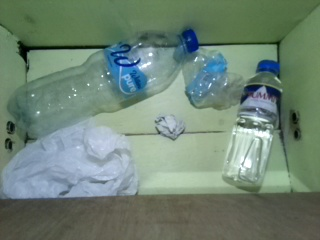bottle: (8, 28, 200, 140), (222, 59, 284, 187)
damaged-bottle: (181, 47, 245, 110)
paper: (155, 113, 186, 140)
plastic-bag: (1, 117, 143, 204)
